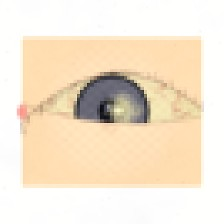corneal_ulcer: (102, 95, 142, 127)
